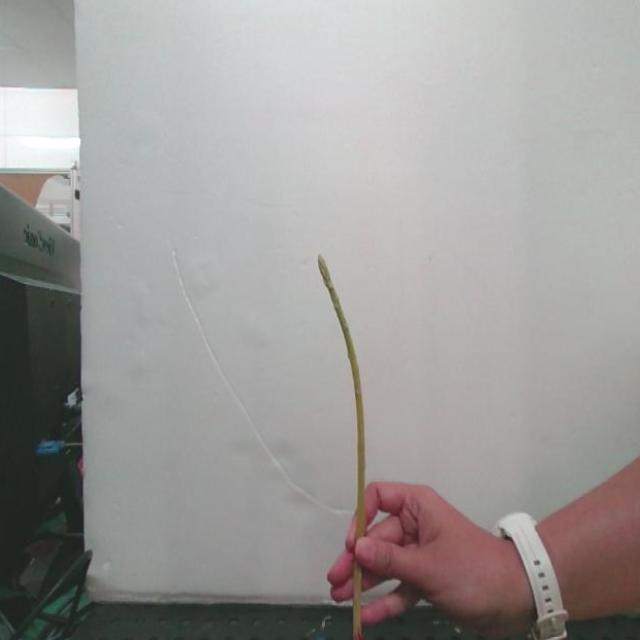aspargus: (318, 257, 366, 553)
